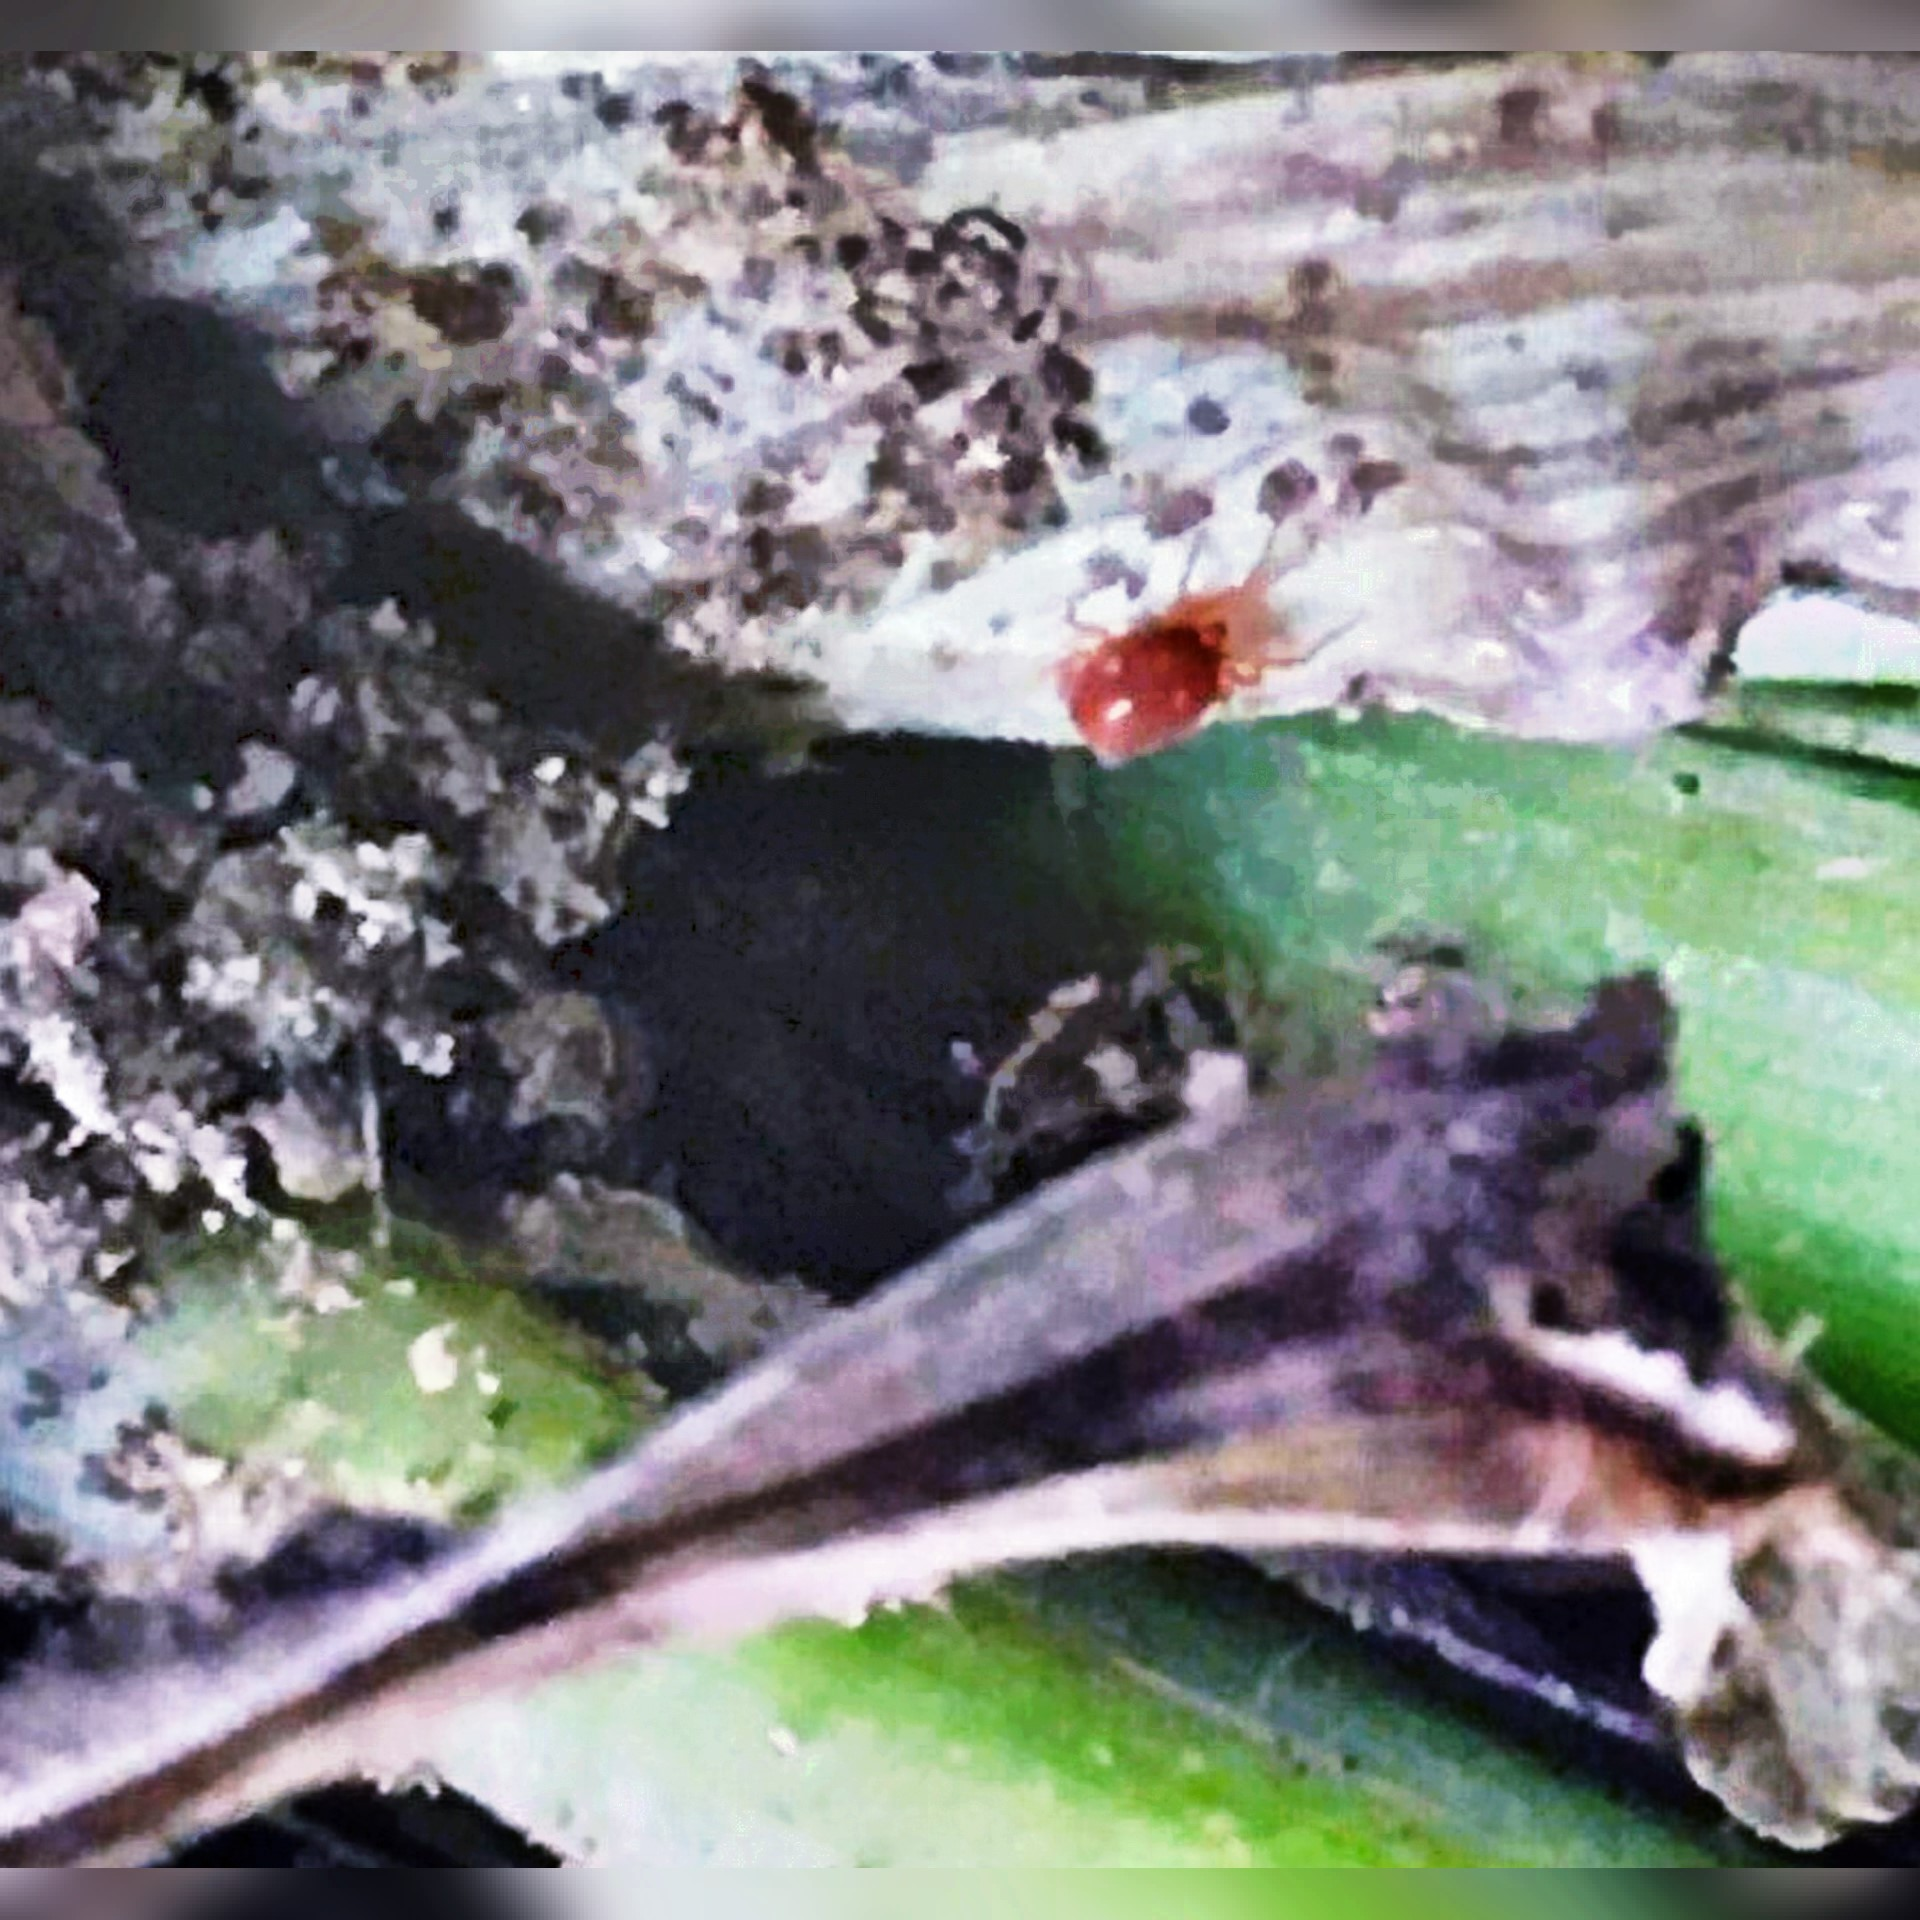Wheat Red Spider: (1011, 517, 1371, 763)
